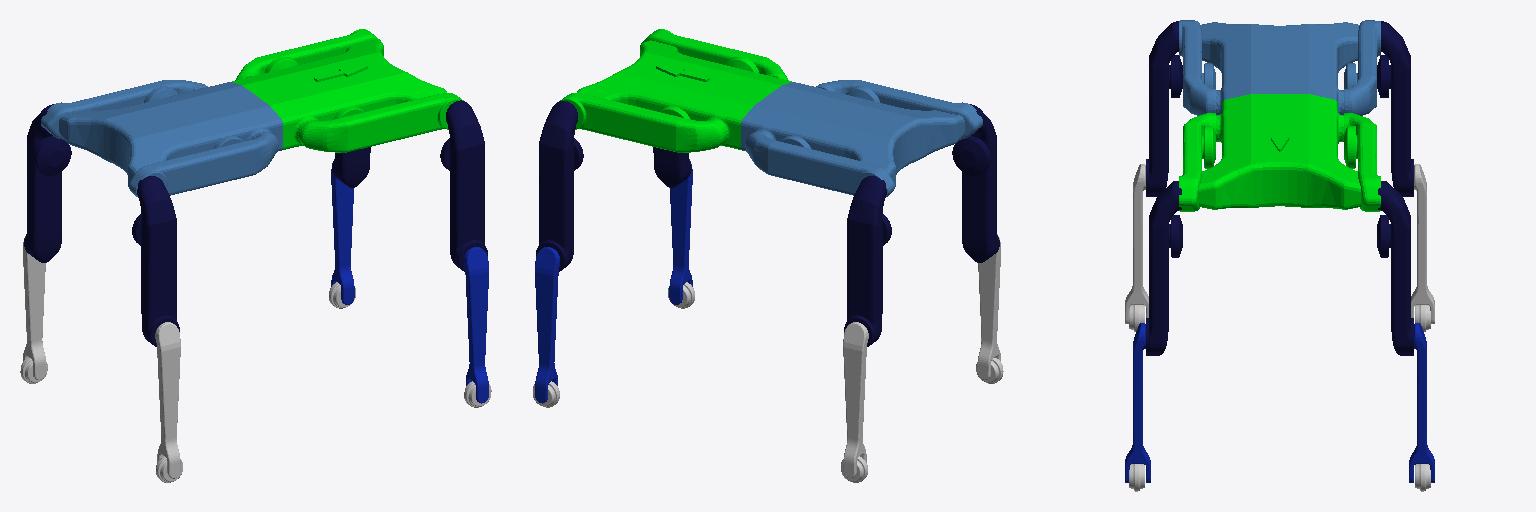
The robot description file, URDF, robot "solo":
<?xml version="1.0" ?>
<!-- =================================================================================== -->
<!-- |    This document was autogenerated by xacro from [local-path]/Documents/raisimLibSolo_workspace/robot_properties_solo/src/robot_properties_solo/resources/xacro/solo8.urdf.xacro | -->
<!-- |    EDITING THIS FILE BY HAND IS NOT RECOMMENDED                                 | -->
<!-- =================================================================================== -->
<robot name="solo" xmlns:controller="http://playerstage.sourceforge.net/gazebo/xmlschema/#controller" xmlns:interface="http://playerstage.sourceforge.net/gazebo/xmlschema/#interface" xmlns:sensor="http://playerstage.sourceforge.net/gazebo/xmlschema/#sensor" xmlns:xacro="http://playerstage.sourceforge.net/gazebo/xmlschema/#interface">
  <!-- This file is based on: https://atlas.is.localnet/confluence/display/AMDW/Quadruped+URDF+Files -->
  <link name="torso_front">
    <!-- BASE LINK INERTIAL -->
    <!-- body inertia updated according to 17.8.2022 PDF (yuni) -->
    <inertial>
      <origin rpy="0 0 0" xyz="-0.00012331 0.00031510 -0.00026969"/>
      <mass value="1.02195485"/>
      <inertia ixx="0.00533767" ixy="-0.00000516" ixz="0.00000122" iyy="0.01314118" iyz="0.00000061" izz="0.01821833"/>
    </inertial>
    <!-- BASE LINK VISUAL -->
    <visual>
      <origin rpy="0 0 0" xyz="0 0 0"/>
      <geometry>
        <mesh filename="../meshes/solo_torso_front.dae"/>
      </geometry>
      <material name="ftorso_mat">
        <color rgba="0.0 0.9 0.1 1"/>
      </material>
    </visual>
    <!-- BASE LINK COLLISION -->
    <collision>
      <origin rpy="0 0 0" xyz="0 0 0"/>
      <geometry>
        <mesh filename="../meshes/solo_torso_front.dae"/>
      </geometry>
    </collision>
    <!-- Bullet specific paramters -->
    <contact>
      <lateral_friction value="1.0"/>
      <restitution value="0.5"/>
    </contact>
  </link>
  <!-- SPIN:Between the torso -->
  <joint name="spine_joint" type="revolute">
    <parent link="torso_front"/>
    <child link="torso_back"/>
    <limit effort="1.154579" lower="-4" upper="4" velocity="25"/>
    <!-- joints rotates around the y-axis -->
    <axis xyz="1 0 0"/>
    <origin rpy="0 0 0" xyz="0 0 0"/>
    <!-- pybullet simulation parameters -->
    <dynamics damping="0.0" friction="0.0"/>
  </joint>
  <link name="torso_back">
    <!-- BASE LINK INERTIAL -->
    <inertial>
      <origin rpy="0 0 0" xyz="-0.00012331 0.00031510 -0.00026969"/>
      <mass value="1.02195485"/>
      <inertia ixx="0.00533767" ixy="-0.00000516" ixz="0.00000122" iyy="0.01314118" iyz="0.00000061" izz="0.01821833"/>
    </inertial>
    <!-- BASE LINK VISUAL -->
    <visual>
      <origin rpy="0 0 0" xyz="0 0 0"/>
      <geometry>
        <mesh filename="../meshes/solo_torso_back.dae"/>
      </geometry>
      <material name="btorso_mat">
        <color rgba="0.3 0.5 0.7 1"/>
      </material>
    </visual>
    <!-- BASE LINK COLLISION -->
    <collision>
      <origin rpy="0 0 0" xyz="0 0 0"/>
      <geometry>
        <mesh filename="../meshes/solo_torso_back.dae"/>
      </geometry>
    </collision>
    <!-- Bullet specific paramters -->
  </link>
  <!-- END BASE LINK -->
  <!-- Joint between the base and the ${prefix} upper leg -->
  <joint name="FL_HFE" type="revolute">
    <parent link="torso_front"/>
    <child link="FL_UPPER_LEG"/>
    <limit effort="1.5" lower="-10" upper="10" velocity="15"/>
    <!-- joints rotates around the y-axis -->
    <axis xyz="0 1 0"/>
    <origin rpy="0 0 0" xyz="0.1946 0.1015 0"/>
    <!-- pybullet simulation parameters -->
    <!-- added rotor inertia as 81*0.00000447 (yuni) -->
    <dynamics damping="0.0" friction="0.0" rotor_inertia="0.00036207"/>
  </joint>
  <link name="FL_UPPER_LEG">
    <!-- Left upper leg inertia -->
    <inertial>
      <mass value="0.14737324"/>
      <origin rpy="0 0 0" xyz="0.00001530 0.01767640 -0.07838230"/>
      <inertia ixx="0.00041540" ixy="0.00000000" ixz="0.00000010" iyy="0.00041637" iyz="-0.00004589" izz="0.00002982"/>
    </inertial>
    <!-- UPPER LEG LINK VISUAL -->
    <visual>
      <origin rpy="0 0 0" xyz="0 0 0"/>
      <geometry>
        <mesh filename="../meshes/solo_upper_leg_left_side.dae"/>
      </geometry>
      <material name="fthigh_mat">
        <color rgba="0.1 0.1 0.3 1"/>
      </material>
    </visual>
    <!-- UPPER LEG LINK COLLISION -->
    <collision>
      <origin rpy="0 0 0" xyz="0 0.037450000000000004 -0.16"/>
      <geometry>
        <!-- sphere radius taken from shell radius in CAD files-->
        <sphere radius="0.0185"/>
      </geometry>
      <material name="grey">
        <color rgba="0.8 0.8 0.8 1.0"/>
      </material>
    </collision>
    <!-- Bullet specific paramters -->
  </link>
  <!-- END UPPER LEG LINK -->
  <!-- KFE: Joint between the upper leg and the lower leg -->
  <joint name="FL_KFE" type="revolute">
    <parent link="FL_UPPER_LEG"/>
    <child link="FL_LOWER_LEG"/>
    <limit effort="1.5" lower="-10" upper="10" velocity="15"/>
    <!-- joints rotates around the y-axis -->
    <axis xyz="0 1 0"/>
    <origin rpy="0 0 0" xyz="0 0.037450000000000004 -0.16"/>
    <!-- pybullet simulation parameters -->
    <!-- added rotor inertia as 81*0.00000447 (yuni) -->
    <dynamics damping="0.0" friction="0.0" rotor_inertia="0.00036207"/>
  </joint>
  <link name="FL_LOWER_LEG">
    <!-- Left lower leg inertia -->
    <inertial>
      <mass value="0.02318294"/>
      <origin rpy="0 0 0" xyz="0.00000000 0.00776716 -0.07003876"/>
      <inertia ixx="0.00008508" ixy="0.00000000" ixz="0.00000000" iyy="0.00008580" iyz="-0.00000200" izz="0.00000139"/>
    </inertial>
    <!-- LOWER LEG LINK VISUAL -->
    <visual>
      <origin rpy="0 0 0" xyz="0 0 0"/>
      <geometry>
        <mesh filename="../meshes/solo_lower_leg_left_side.dae"/>
      </geometry>
      <material name="fshin_mat">
        <color rgba="0.1 0.2 0.7 0.4"/>
      </material>
    </visual>
    <!-- LOWER LEG LINK COLLISION -->
    <!-- turn off lower leg link collision to instead have sphere at foot (yuni) -->
    <!-- Bullet specific paramters -->
  </link>
  <!-- END LOWER LEG LINK -->
  <!-- KFE: Joint between the upper leg and the lower leg -->
  <joint name="FL_ANKLE" type="fixed" dont_collapse="true">
    <parent link="FL_LOWER_LEG"/>
    <child link="FL_FOOT"/>
    <origin rpy="0 0 0" xyz="0 0.009000000000000001 -0.16"/>
    <!-- pybullet simulation parameters -->
    <dynamics damping="0.0" friction="0.0"/>
  </joint>
  <link name="FL_FOOT">
    <!-- FOOT INERTIAL -->
    <inertial>
      <origin rpy="0 0 0" xyz="0 0 0.00035767"/>
      <mass value="0.00693606"/>
      <inertia ixx="0.00000057" ixy="0.0" ixz="0.0" iyy="0.00000084" iyz="0.0" izz="0.00000053"/>
    </inertial>
    <!-- FOOT VISUAL -->
    <visual>
      <origin rpy="0 0 0" xyz="0 0 0"/>
      <geometry>
        <mesh filename="../meshes/solo_foot.dae"/>
      </geometry>
      <material name="grey">
        <color rgba="0.8 0.8 0.8 1.0"/>
      </material>
    </visual>
    <!-- FOOT COLLISION -->
    <!-- add collision in foot as a sphere (yuni) -->
    <collision>
      <origin rpy="0 0 0" xyz="0 0 0"/>
      <geometry>
        <!-- sphere radius taken from rubber radius in CAD files-->
        <sphere radius="0.0159"/>
      </geometry>
      <material name="grey">
        <color rgba="0.8 0.8 0.8 1.0"/>
      </material>
    </collision>
  </link>
  <!-- END FOOT LINK -->
  <!-- Joint between the base and the ${prefix} upper leg -->
  <joint name="FR_HFE" type="revolute">
    <parent link="torso_front"/>
    <child link="FR_UPPER_LEG"/>
    <limit effort="1.5" lower="-10" upper="10" velocity="15"/>
    <!-- joints rotates around the y-axis -->
    <axis xyz="0 1 0"/>
    <origin rpy="0 0 0" xyz="0.1946 -0.1015 0"/>
    <!-- pybullet simulation parameters -->
    <!-- added rotor inertia as 81*0.00000447 (yuni) -->
    <dynamics damping="0.0" friction="0.0" rotor_inertia="0.00036207"/>
  </joint>
  <link name="FR_UPPER_LEG">
    <!-- Right upper leg inertia -->
    <inertial>
      <mass value="0.14737324"/>
      <origin rpy="0 0 0" xyz="-0.00001530 -0.01767640 -0.07838230"/>
      <inertia ixx="0.00041540" ixy="0.00000000" ixz="-0.00000010" iyy="0.00041637" iyz="0.00004589" izz="0.00002982"/>
    </inertial>
    <!-- UPPER LEG LINK VISUAL -->
    <visual>
      <origin rpy="0 0 0" xyz="0 0 0"/>
      <geometry>
        <mesh filename="../meshes/solo_upper_leg_right_side.dae"/>
      </geometry>
      <material name="fthigh_mat">
        <color rgba="0.1 0.1 0.3 1"/>
      </material>
    </visual>
    <!-- UPPER LEG LINK COLLISION -->
    <collision>
      <origin rpy="0 0 0" xyz="0 -0.037450000000000004 -0.16"/>
      <geometry>
        <!-- sphere radius taken from shell radius in CAD files-->
        <sphere radius="0.0185"/>
      </geometry>
      <material name="grey">
        <color rgba="0.8 0.8 0.8 1.0"/>
      </material>
    </collision>
    <!-- Bullet specific paramters -->
  </link>
  <!-- END UPPER LEG LINK -->
  <!-- KFE: Joint between the upper leg and the lower leg -->
  <joint name="FR_KFE" type="revolute">
    <parent link="FR_UPPER_LEG"/>
    <child link="FR_LOWER_LEG"/>
    <limit effort="1.5" lower="-10" upper="10" velocity="15"/>
    <!-- joints rotates around the y-axis -->
    <axis xyz="0 1 0"/>
    <origin rpy="0 0 0" xyz="0 -0.037450000000000004 -0.16"/>
    <!-- pybullet simulation parameters -->
    <!-- added rotor inertia as 81*0.00000447 (yuni) -->
    <dynamics damping="0.0" friction="0.0" rotor_inertia="0.00036207"/>
  </joint>
  <link name="FR_LOWER_LEG">
    <!-- Right lower leg inertia -->
    <inertial>
      <mass value="0.02318294"/>
      <origin rpy="0 0 0" xyz="0.00000000 -0.00776716 -0.07003876"/>
      <inertia ixx="0.00008508" ixy="0.00000000" ixz="0.00000000" iyy="0.00008580" iyz="0.00000200" izz="0.00000139"/>
    </inertial>
    <!-- LOWER LEG LINK VISUAL -->
    <visual>
      <origin rpy="0 0 0" xyz="0 0 0"/>
      <geometry>
        <mesh filename="../meshes/solo_lower_leg_right_side.dae"/>
      </geometry>
      <material name="fshin_mat">
        <color rgba="0.1 0.2 0.7 0.4"/>
      </material>
    </visual>
    <!-- LOWER LEG LINK COLLISION -->
    <!-- turn off lower leg link collision to instead have sphere at foot (yuni) -->
    <!-- Bullet specific paramters -->
  </link>
  <!-- END LOWER LEG LINK -->
  <!-- KFE: Joint between the upper leg and the lower leg -->
  <joint name="FR_ANKLE" type="fixed" dont_collapse="true">
    <parent link="FR_LOWER_LEG"/>
    <child link="FR_FOOT"/>
    <origin rpy="0 0 0" xyz="0 -0.009000000000000001 -0.16"/>
    <!-- pybullet simulation parameters -->
    <dynamics damping="0.0" friction="0.0"/>
  </joint>
  <link name="FR_FOOT">
    <!-- FOOT INERTIAL -->
    <inertial>
      <origin rpy="0 0 0" xyz="0 0 0.00035767"/>
      <mass value="0.00693606"/>
      <inertia ixx="0.00000057" ixy="0.0" ixz="0.0" iyy="0.00000084" iyz="0.0" izz="0.00000053"/>
    </inertial>
    <!-- FOOT VISUAL -->
    <visual>
      <origin rpy="0 0 0" xyz="0 0 0"/>
      <geometry>
        <mesh filename="../meshes/solo_foot.dae"/>
      </geometry>
      <material name="grey">
        <color rgba="0.8 0.8 0.8 1.0"/>
      </material>
    </visual>
    <!-- FOOT COLLISION -->
    <!-- add collision in foot as a sphere (yuni) -->
    <collision>
      <origin rpy="0 0 0" xyz="0 0 0"/>
      <geometry>
        <!-- sphere radius taken from rubber radius in CAD files-->
        <sphere radius="0.0159"/>
      </geometry>
      <material name="grey">
        <color rgba="0.8 0.8 0.8 1.0"/>
      </material>
    </collision>
  </link>
  <!-- END FOOT LINK -->
  <!-- Joint between the base and the ${prefix} upper leg -->
  <joint name="HL_HFE" type="revolute">
    <parent link="torso_back"/>
    <child link="HL_UPPER_LEG"/>
    <limit effort="1.5" lower="-10" upper="10" velocity="15"/>
    <!-- joints rotates around the y-axis -->
    <axis xyz="0 1 0"/>
    <origin rpy="0 0 0" xyz="-0.1946 0.1015 0"/>
    <!-- pybullet simulation parameters -->
    <!-- added rotor inertia as 81*0.00000447 (yuni) -->
    <dynamics damping="0.0" friction="0.0" rotor_inertia="0.00036207"/>
  </joint>
  <link name="HL_UPPER_LEG">
    <!-- Left upper leg inertia -->
    <inertial>
      <mass value="0.14737324"/>
      <origin rpy="0 0 0" xyz="0.00001530 0.01767640 -0.07838230"/>
      <inertia ixx="0.00041540" ixy="0.00000000" ixz="0.00000010" iyy="0.00041637" iyz="-0.00004589" izz="0.00002982"/>
    </inertial>
    <!-- UPPER LEG LINK VISUAL -->
    <visual>
      <origin rpy="0 0 0" xyz="0 0 0"/>
      <geometry>
        <mesh filename="../meshes/solo_upper_leg_left_side.dae"/>
      </geometry>
      <material name="bthigh_mat">
        <color rgba="0.1 0.1 0.3 1"/>
      </material>
    </visual>
    <!-- UPPER LEG LINK COLLISION -->
    <collision>
      <origin rpy="0 0 0" xyz="0 0.037450000000000004 -0.16"/>
      <geometry>
        <!-- sphere radius taken from shell radius in CAD files-->
        <sphere radius="0.0185"/>
      </geometry>
      <material name="grey">
        <color rgba="0.8 0.8 0.8 1.0"/>
      </material>
    </collision>
    <!-- Bullet specific paramters -->
  </link>
  <!-- END UPPER LEG LINK -->
  <!-- KFE: Joint between the upper leg and the lower leg -->
  <joint name="HL_KFE" type="revolute">
    <parent link="HL_UPPER_LEG"/>
    <child link="HL_LOWER_LEG"/>
    <limit effort="1.5" lower="-10" upper="10" velocity="15"/>
    <!-- joints rotates around the y-axis -->
    <axis xyz="0 1 0"/>
    <origin rpy="0 0 0" xyz="0 0.037450000000000004 -0.16"/>
    <!-- pybullet simulation parameters -->
    <!-- added rotor inertia as 81*0.00000447 (yuni) -->
    <dynamics damping="0.0" friction="0.0" rotor_inertia="0.00036207"/>
  </joint>
  <link name="HL_LOWER_LEG">
    <!-- Left lower leg inertia -->
    <inertial>
      <mass value="0.02318294"/>
      <origin rpy="0 0 0" xyz="0.00000000 0.00776716 -0.07003876"/>
      <inertia ixx="0.00008508" ixy="0.00000000" ixz="0.00000000" iyy="0.00008580" iyz="-0.00000200" izz="0.00000139"/>
    </inertial>
    <!-- LOWER LEG LINK VISUAL -->
    <visual>
      <origin rpy="0 0 0" xyz="0 0 0"/>
      <geometry>
        <mesh filename="../meshes/solo_lower_leg_left_side.dae"/>
      </geometry>
      <material name="grey">
        <color rgba="0.8 0.8 0.8 1.0"/>
      </material>
    </visual>
    <!-- LOWER LEG LINK COLLISION -->
    <!-- turn off lower leg link collision to instead have sphere at foot (yuni) -->
    <!-- Bullet specific paramters -->
  </link>
  <!-- END LOWER LEG LINK -->
  <!-- KFE: Joint between the upper leg and the lower leg -->
  <joint name="HL_ANKLE" type="fixed" dont_collapse="true">
    <parent link="HL_LOWER_LEG"/>
    <child link="HL_FOOT"/>
    <origin rpy="0 0 0" xyz="0 0.009000000000000001 -0.16"/>
    <!-- pybullet simulation parameters -->
    <dynamics damping="0.0" friction="0.0"/>
  </joint>
  <link name="HL_FOOT">
    <!-- FOOT INERTIAL -->
    <inertial>
      <origin rpy="0 0 0" xyz="0 0 0.00035767"/>
      <mass value="0.00693606"/>
      <inertia ixx="0.00000057" ixy="0.0" ixz="0.0" iyy="0.00000084" iyz="0.0" izz="0.00000053"/>
    </inertial>    
    <!-- FOOT VISUAL -->
    <visual>
      <origin rpy="0 0 0" xyz="0 0 0"/>
      <geometry>
        <mesh filename="../meshes/solo_foot.dae"/>
      </geometry>
      <material name="grey">
        <color rgba="0.8 0.8 0.8 1.0"/>
      </material>
    </visual>
    <!-- FOOT COLLISION -->
    <!-- add collision in foot as a sphere (yuni) -->
    <collision>
      <origin rpy="0 0 0" xyz="0 0 0"/>
      <geometry>
        <!-- sphere radius taken from rubber radius in CAD files-->
        <sphere radius="0.0159"/>
      </geometry>
      <material name="grey">
        <color rgba="0.8 0.8 0.8 1.0"/>
      </material>
    </collision>
  </link>
  <!-- END FOOT LINK -->
  <!-- Joint between the base and the ${prefix} upper leg -->
  <joint name="HR_HFE" type="revolute">
    <parent link="torso_back"/>
    <child link="HR_UPPER_LEG"/>
    <limit effort="1.5" lower="-10" upper="10" velocity="15"/>
    <!-- joints rotates around the y-axis -->
    <axis xyz="0 1 0"/>
    <origin rpy="0 0 0" xyz="-0.1946 -0.1015 0"/>
    <!-- pybullet simulation parameters -->
    <!-- added rotor inertia as 81*0.00000447 (yuni) -->
    <dynamics damping="0.0" friction="0.0" rotor_inertia="0.00036207"/>
  </joint>
  <link name="HR_UPPER_LEG">
    <!-- Right upper leg inertia -->
    <inertial>
      <mass value="0.14737324"/>
      <origin rpy="0 0 0" xyz="-0.00001530 -0.01767640 -0.07838230"/>
      <inertia ixx="0.00041540" ixy="0.00000000" ixz="-0.00000010" iyy="0.00041637" iyz="0.00004589" izz="0.00002982"/>
    </inertial>
    <!-- UPPER LEG LINK VISUAL -->
    <visual>
      <origin rpy="0 0 0" xyz="0 0 0"/>
      <geometry>
        <mesh filename="../meshes/solo_upper_leg_right_side.dae"/>
      </geometry>
      <material name="bthigh_mat">
        <color rgba="0.1 0.1 0.3 1"/>
      </material>
    </visual>
    <!-- UPPER LEG LINK COLLISION -->
    <collision>
      <origin rpy="0 0 0" xyz="0 -0.037450000000000004 -0.16"/>
      <geometry>
        <!-- sphere radius taken from shell radius in CAD files-->
        <sphere radius="0.0185"/>
      </geometry>
      <material name="grey">
        <color rgba="0.8 0.8 0.8 1.0"/>
      </material>
    </collision>
    <!-- Bullet specific paramters -->
  </link>
  <!-- END UPPER LEG LINK -->
  <!-- KFE: Joint between the upper leg and the lower leg -->
  <joint name="HR_KFE" type="revolute">
    <parent link="HR_UPPER_LEG"/>
    <child link="HR_LOWER_LEG"/>
    <limit effort="1.5" lower="-10" upper="10" velocity="15"/>
    <!-- joints rotates around the y-axis -->
    <axis xyz="0 1 0"/>
    <origin rpy="0 0 0" xyz="0 -0.037450000000000004 -0.16"/>
    <!-- pybullet simulation parameters -->
    <!-- added rotor inertia as 81*0.00000447 (yuni) -->
    <dynamics damping="0.0" friction="0.0" rotor_inertia="0.00036207"/>
  </joint>
  <link name="HR_LOWER_LEG">
    <!-- Right lower leg inertia -->
    <inertial>
      <mass value="0.02318294"/>
      <origin rpy="0 0 0" xyz="0.00000000 -0.00776716 -0.07003876"/>
      <inertia ixx="0.00008508" ixy="0.00000000" ixz="0.00000000" iyy="0.00008580" iyz="0.00000200" izz="0.00000139"/>
    </inertial>
    <!-- LOWER LEG LINK VISUAL -->
    <visual>
      <origin rpy="0 0 0" xyz="0 0 0"/>
      <geometry>
        <mesh filename="../meshes/solo_lower_leg_right_side.dae"/>
      </geometry>
      <material name="grey">
        <color rgba="0.8 0.8 0.8 1.0"/>
      </material>
    </visual>
    <!-- LOWER LEG LINK COLLISION -->
    <!-- turn off lower leg link collision to instead have sphere at foot (yuni) -->
    <!-- Bullet specific paramters -->
  </link>
  <!-- END LOWER LEG LINK -->
  <!-- KFE: Joint between the upper leg and the lower leg -->
  <joint name="HR_ANKLE" type="fixed" dont_collapse="true">
    <parent link="HR_LOWER_LEG"/>
    <child link="HR_FOOT"/>
    <origin rpy="0 0 0" xyz="0 -0.009000000000000001 -0.16"/>
    <!-- pybullet simulation parameters -->
    <dynamics damping="0.0" friction="0.0"/>
  </joint>
  <link name="HR_FOOT">
    <!-- FOOT INERTIAL -->
    <inertial>
      <origin rpy="0 0 0" xyz="0 0 0.00035767"/>
      <mass value="0.00693606"/>
      <inertia ixx="0.00000057" ixy="0.0" ixz="0.0" iyy="0.00000084" iyz="0.0" izz="0.00000053"/>
    </inertial>
    <!-- FOOT VISUAL -->
    <visual>
      <origin rpy="0 0 0" xyz="0 0 0"/>
      <geometry>
        <mesh filename="../meshes/solo_foot.dae"/>
      </geometry>
      <material name="grey">
        <color rgba="0.8 0.8 0.8 1.0"/>
      </material>
    </visual>
    <!-- add collision in foot as a sphere (yuni) -->
    <!-- FOOT COLLISION -->
    <collision>
      <origin rpy="0 0 0" xyz="0 0 0"/>
      <geometry>
        <!-- sphere radius taken from rubber radius in CAD files-->
        <sphere radius="0.0159"/>
      </geometry>
      <material name="grey">
        <color rgba="0.8 0.8 0.8 1.0"/>
      </material>
    </collision>
  </link>
  <!-- END FOOT LINK -->
</robot>

--- What the picture shows (computed from the rendered views, not written in the file) ---
3 views of the same robot in one strip: view 1: azimuth 30°, elevation 25°; view 2: azimuth 150°, elevation 25°; view 3: azimuth 270°, elevation 25° (orthographic).
Model solo with 14 links and 13 joints (9 revolute, 4 fixed), rooted at torso_front, posed every joint at zero.
Links seen in each view (by area): view 1: torso_back, torso_front, HR_UPPER_LEG, FR_UPPER_LEG, HL_UPPER_LEG, HR_LOWER_LEG, FR_LOWER_LEG, FL_LOWER_LEG, HL_LOWER_LEG, FL_UPPER_LEG; view 2: torso_back, torso_front, HL_UPPER_LEG, FL_UPPER_LEG, HR_UPPER_LEG, HL_LOWER_LEG, FL_LOWER_LEG, FR_LOWER_LEG, HR_LOWER_LEG, FR_UPPER_LEG; view 3: torso_front, torso_back, FL_UPPER_LEG, FR_UPPER_LEG, HL_UPPER_LEG, HR_UPPER_LEG, FL_LOWER_LEG, FR_LOWER_LEG, HL_LOWER_LEG, HR_LOWER_LEG.
Boxes of the visible links, left/top/right/bottom form: torso_back: left=41, top=80, right=282, bottom=196; torso_front: left=232, top=29, right=463, bottom=152; HR_UPPER_LEG: left=132, top=176, right=179, bottom=346; FR_UPPER_LEG: left=440, top=100, right=487, bottom=271; HL_UPPER_LEG: left=24, top=104, right=71, bottom=262; HR_LOWER_LEG: left=155, top=322, right=180, bottom=478; FR_LOWER_LEG: left=464, top=247, right=488, bottom=403; FL_LOWER_LEG: left=331, top=159, right=354, bottom=304; HL_LOWER_LEG: left=23, top=236, right=45, bottom=379; FL_UPPER_LEG: left=332, top=147, right=370, bottom=187; torso_back: left=741, top=80, right=982, bottom=196; torso_front: left=560, top=29, right=791, bottom=152; HL_UPPER_LEG: left=844, top=176, right=891, bottom=346; FL_UPPER_LEG: left=536, top=101, right=583, bottom=271; HR_UPPER_LEG: left=952, top=104, right=999, bottom=262; HL_LOWER_LEG: left=843, top=322, right=868, bottom=478; FL_LOWER_LEG: left=535, top=247, right=559, bottom=403; FR_LOWER_LEG: left=669, top=159, right=692, bottom=304; HR_LOWER_LEG: left=978, top=234, right=1000, bottom=379; FR_UPPER_LEG: left=653, top=147, right=691, bottom=187; torso_front: left=1179, top=94, right=1380, bottom=211; torso_back: left=1179, top=20, right=1380, bottom=115; FL_UPPER_LEG: left=1377, top=181, right=1413, bottom=355; FR_UPPER_LEG: left=1146, top=181, right=1182, bottom=355; HL_UPPER_LEG: left=1377, top=21, right=1413, bottom=196; HR_UPPER_LEG: left=1146, top=21, right=1182, bottom=196; FL_LOWER_LEG: left=1409, top=323, right=1434, bottom=482; FR_LOWER_LEG: left=1125, top=323, right=1150, bottom=482; HL_LOWER_LEG: left=1411, top=164, right=1434, bottom=323; HR_LOWER_LEG: left=1125, top=164, right=1148, bottom=323.
Size in the robot's own frame: 0.4336 by 0.3208 by 0.364 metres.
14 mesh visuals loaded from 7 distinct referenced files (7 Collada DAE).
